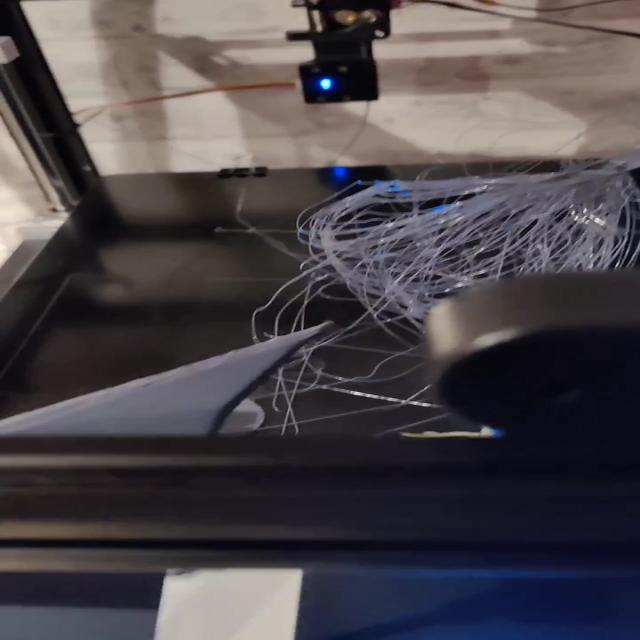spaghetti: (284, 132, 640, 308)
